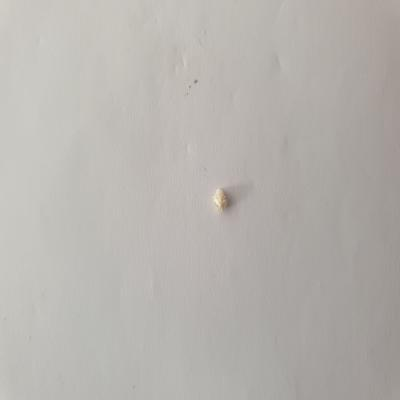plastic: (208, 183, 237, 212)
